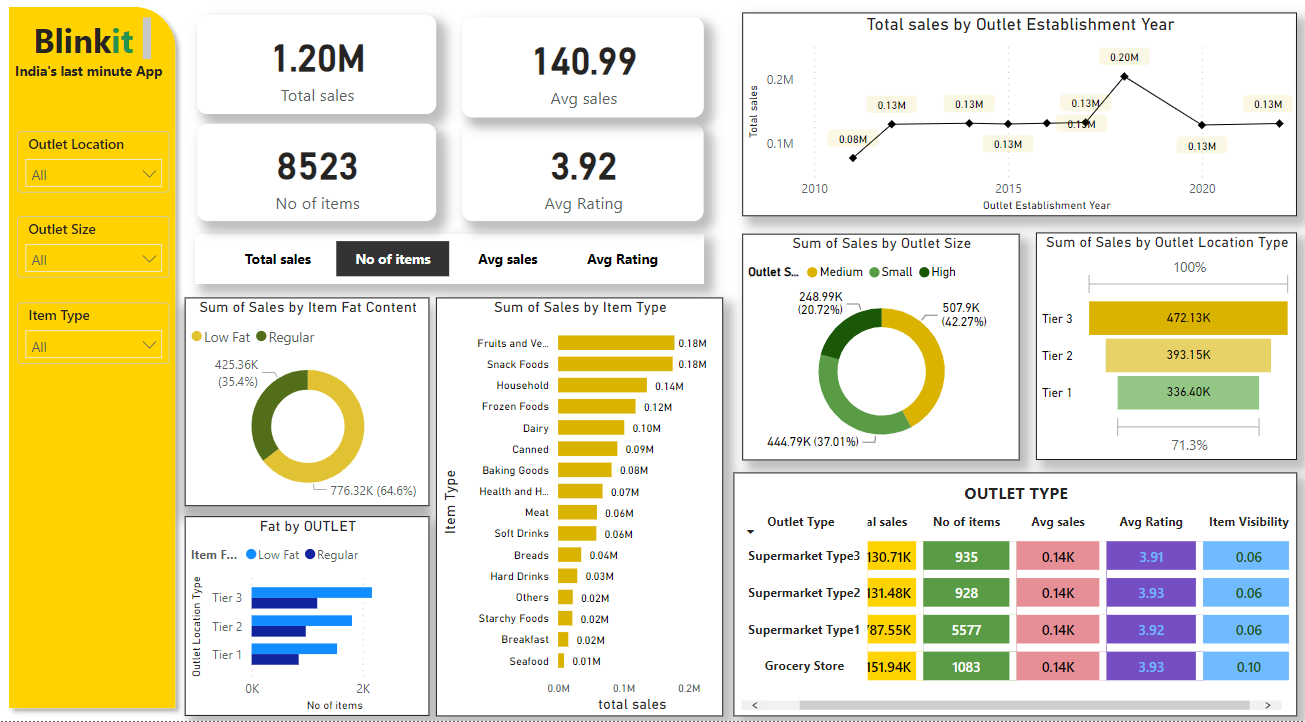

The dashboard page shown, as its layout file describes it:
{"tool":"powerbi","page":{"name":"Page 1","canvas":[1280,720],"ordinal":0},"visuals":[{"type":"shape","box":[3.7,12.2,180.9,704.1],"z":0},{"type":"textbox","box":[22,26.9,134.5,51.3],"z":1000},{"type":"textbox","box":[8.6,69.7,163.8,36.7],"z":2000},{"type":"card","fields":{"Values":["BlinkIT Grocery Data.Total sales"]},"box":[196.8,29.3,233.5,96.6],"z":3000},{"type":"card","fields":{"Values":["BlinkIT Grocery Data.Avg Rating"]},"box":[456,135.7,235.9,95.3],"z":4000},{"type":"card","fields":{"Values":["BlinkIT Grocery Data.No of items"]},"box":[196.8,135.7,233.5,95.3],"z":5000},{"type":"card","fields":{"Values":["BlinkIT Grocery Data.Avg sales"]},"box":[456,31.8,235.9,97.8],"z":6000},{"type":"slicer","fields":{"Values":["Metrics.Metrics"]},"box":[194.4,243.3,497.5,48.9],"z":7000},{"type":"donutChart","fields":{"Category":["BlinkIT Grocery Data.Item Fat Content"],"Y":["Sum(BlinkIT Grocery Data.Sales)"]},"box":[184.6,305.6,239.6,204.1],"z":8000},{"type":"clusteredBarChart","title":"Fat by OUTLET","fields":{"Y":["BlinkIT Grocery Data.No of items"],"Category":["BlinkIT Grocery Data.Outlet Location Type"],"Series":["BlinkIT Grocery Data.Item Fat Content"]},"box":[184.6,519.5,239.6,195.6],"z":9000},{"type":"lineChart","fields":{"Category":["BlinkIT Grocery Data.Outlet Establishment Year"],"Y":["BlinkIT Grocery Data.Total sales"]},"box":[729.8,26.9,542.8,199.3],"z":10000},{"type":"clusteredBarChart","fields":{"Category":["BlinkIT Grocery Data.Item Type"],"Y":["Sum(BlinkIT Grocery Data.Sales)"]},"box":[430.3,305.6,281.2,409.5],"z":11000},{"type":"donutChart","fields":{"Category":["BlinkIT Grocery Data.Outlet Size"],"Y":["Sum(BlinkIT Grocery Data.Sales)"]},"box":[729.8,243.3,271.4,221.3],"z":12000},{"type":"funnel","fields":{"Category":["BlinkIT Grocery Data.Outlet Location Type"],"Y":["Sum(BlinkIT Grocery Data.Sales)"]},"box":[1017,242,255.5,222.5],"z":13000},{"type":"pivotTable","title":"OUTLET TYPE","fields":{"Rows":["BlinkIT Grocery Data.Outlet Type"],"Values":["BlinkIT Grocery Data.Total sales","BlinkIT Grocery Data.No of items","BlinkIT Grocery Data.Avg sales","BlinkIT Grocery Data.Avg Rating","Avg(BlinkIT Grocery Data.Item Visibility)"]},"box":[721.2,476.7,551.3,238.4],"z":14000},{"type":"slicer","fields":{"Values":["BlinkIT Grocery Data.Outlet Location Type"]},"box":[20.8,143,149.1,59.9],"z":15000},{"type":"slicer","fields":{"Values":["BlinkIT Grocery Data.Outlet Size"]},"box":[20.8,226.1,149.1,59.9],"z":16000},{"type":"slicer","fields":{"Values":["BlinkIT Grocery Data.Item Type"]},"box":[20.8,310.5,149.1,59.9],"z":17000}]}

Visuals, with their boxes in screenshot pixels (x1, y1, x2, y2), scaled from the page's 1280x720 canvas onto the 1305x722 screenshot:
shape: x1=4, y1=12, x2=188, y2=718
textbox: x1=22, y1=27, x2=160, y2=78
textbox: x1=9, y1=70, x2=176, y2=107
card - BlinkIT Grocery Data.Total sales: x1=201, y1=29, x2=439, y2=126
card - BlinkIT Grocery Data.Avg Rating: x1=465, y1=136, x2=705, y2=232
card - BlinkIT Grocery Data.No of items: x1=201, y1=136, x2=439, y2=232
card - BlinkIT Grocery Data.Avg sales: x1=465, y1=32, x2=705, y2=130
slicer - Metrics.Metrics: x1=198, y1=244, x2=705, y2=293
donutChart - BlinkIT Grocery Data.Item Fat Content x Sum(BlinkIT Grocery Data.Sales): x1=188, y1=306, x2=432, y2=511
"Fat by OUTLET" clusteredBarChart: x1=188, y1=521, x2=432, y2=717
lineChart - BlinkIT Grocery Data.Outlet Establishment Year x BlinkIT Grocery Data.Total sales: x1=744, y1=27, x2=1297, y2=227
clusteredBarChart - BlinkIT Grocery Data.Item Type x Sum(BlinkIT Grocery Data.Sales): x1=439, y1=306, x2=725, y2=717
donutChart - BlinkIT Grocery Data.Outlet Size x Sum(BlinkIT Grocery Data.Sales): x1=744, y1=244, x2=1021, y2=466
funnel - BlinkIT Grocery Data.Outlet Location Type x Sum(BlinkIT Grocery Data.Sales): x1=1037, y1=243, x2=1297, y2=466
"OUTLET TYPE" pivotTable: x1=735, y1=478, x2=1297, y2=717
slicer - BlinkIT Grocery Data.Outlet Location Type: x1=21, y1=143, x2=173, y2=203
slicer - BlinkIT Grocery Data.Outlet Size: x1=21, y1=227, x2=173, y2=287
slicer - BlinkIT Grocery Data.Item Type: x1=21, y1=311, x2=173, y2=371
